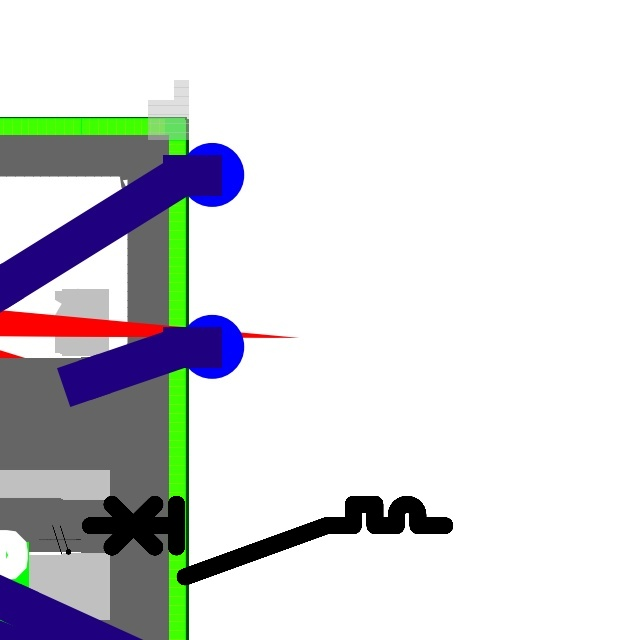interruptor_termomagnetico: (81, 495, 454, 586)
